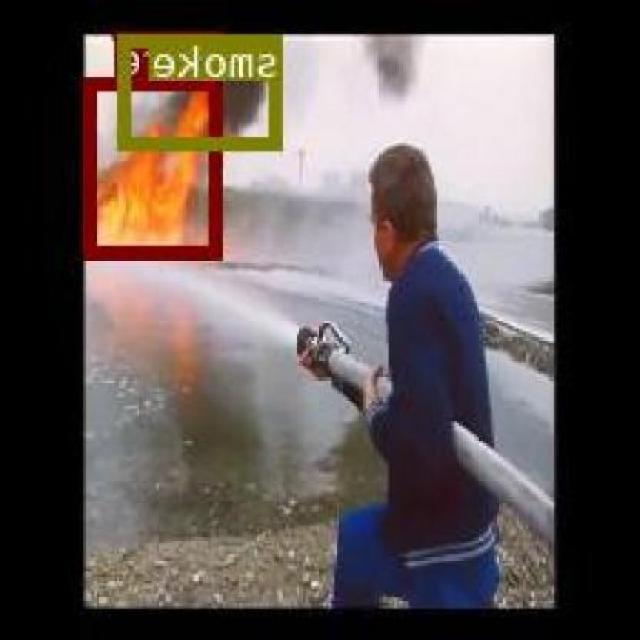Fire: (88, 76, 224, 256)
Smoke: (120, 33, 286, 149)
